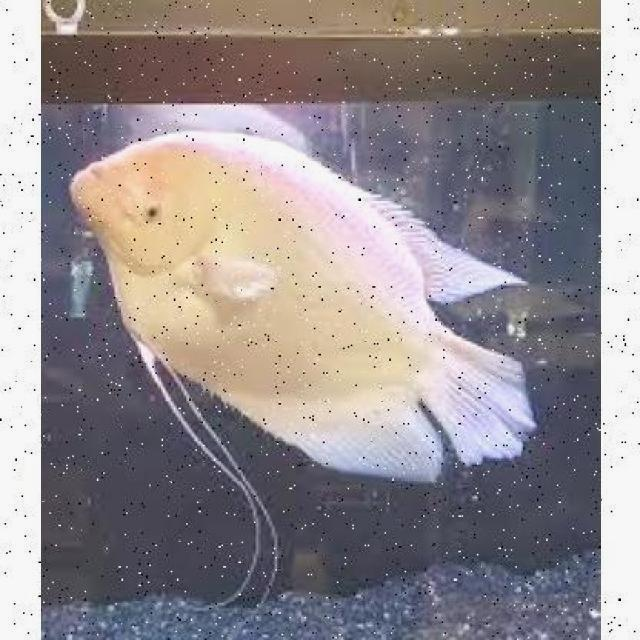gurame: (69, 130, 538, 482)
